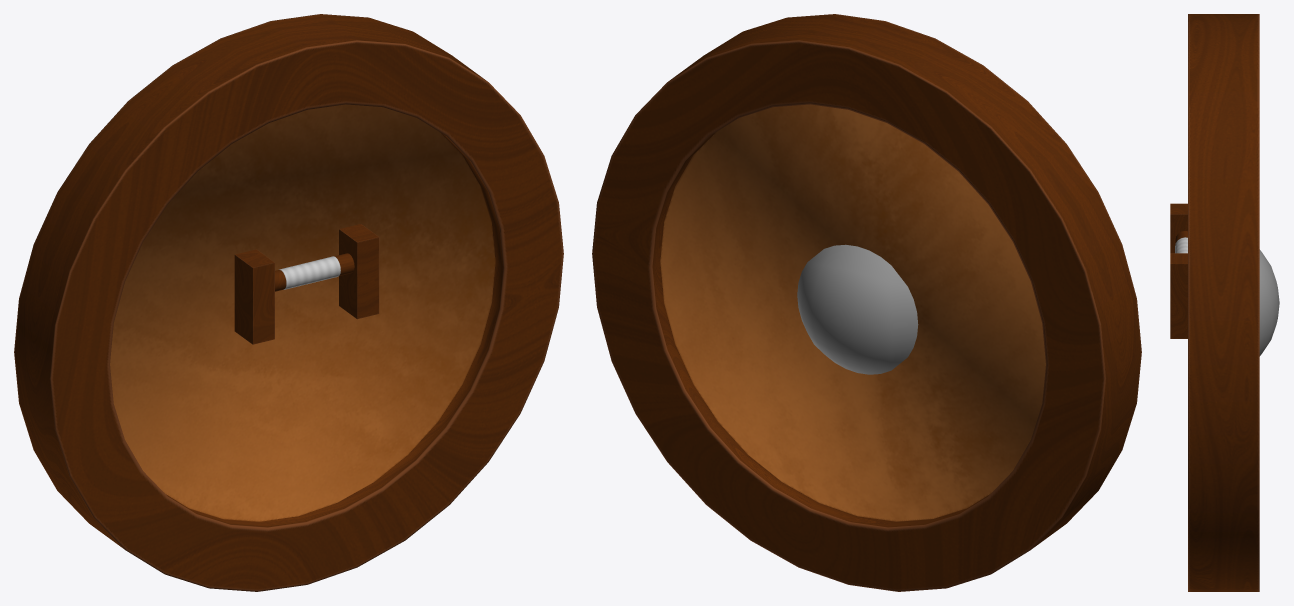
File: Shield.fbx
The picture shows the model from 3 angles, left to right: view 1: azimuth 30°, elevation 25°; view 2: azimuth 150°, elevation 25°; view 3: azimuth 270°, elevation 25°; orthographic projection. The views are drawn at different scales.
Visible parts, largest first — view 1: Shield, Frame, Grip; view 2: Shield, Large Bolt; view 3: Shield, Frame, Large Bolt, Grip.
Boxes of the visible parts, bbox=[...] form: Shield: bbox=[14, 14, 563, 591]; Frame: bbox=[234, 224, 379, 344]; Grip: bbox=[279, 256, 340, 289]; Shield: bbox=[592, 14, 1141, 591]; Large Bolt: bbox=[797, 244, 918, 374]; Shield: bbox=[1188, 14, 1259, 591]; Frame: bbox=[1170, 203, 1187, 338]; Large Bolt: bbox=[1259, 249, 1279, 356]; Grip: bbox=[1175, 237, 1187, 253].
Bounding box in the file's own units: 59.52 × 59.52 × 11.25.
Materials: 1 (1 with a texture image).
